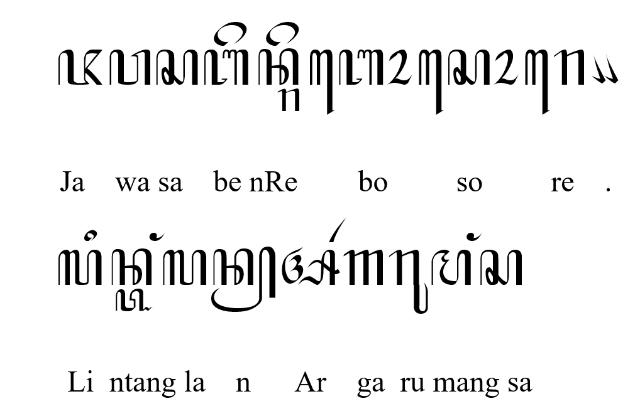-n: (211, 246, 277, 312)
A: (282, 246, 341, 286)
_r: (276, 88, 300, 112)
_r1: (328, 217, 348, 242)
_t: (116, 290, 152, 312)
b: (338, 48, 384, 86), (204, 48, 248, 86)
e: (309, 48, 335, 116), (213, 20, 247, 46), (266, 21, 300, 47)
e1: (418, 49, 444, 115), (524, 49, 550, 115)
g: (343, 250, 383, 286)
i: (84, 230, 98, 242)
j: (57, 48, 103, 86)
kom: (590, 54, 606, 83), (604, 55, 618, 83)
l: (58, 250, 102, 286), (163, 250, 207, 286)
m: (431, 250, 472, 286)
n: (258, 48, 300, 86), (111, 248, 153, 286)
ng: (149, 232, 165, 242), (466, 233, 482, 241)
o: (386, 48, 414, 86), (493, 49, 519, 85)
r: (553, 48, 587, 86)
ru: (388, 250, 428, 314)
s: (155, 48, 199, 86), (448, 49, 490, 85), (480, 250, 522, 286)
w: (109, 48, 151, 86)
